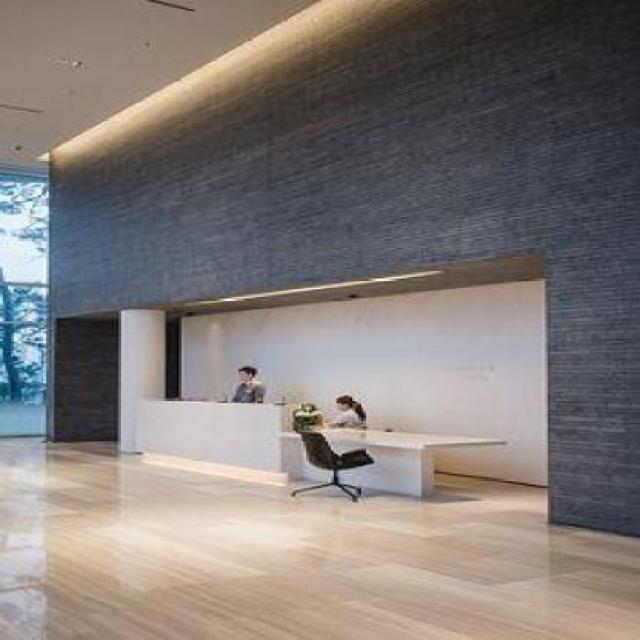frontdesk: (119, 383, 516, 505)
